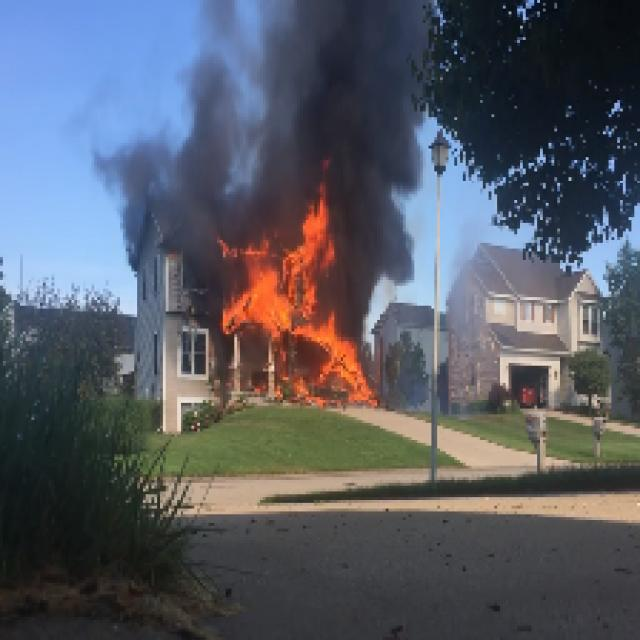Fire: (220, 237, 294, 329), (288, 177, 338, 283), (306, 317, 363, 389)
Smoke: (263, 2, 432, 154), (183, 2, 266, 232), (86, 80, 180, 232), (346, 160, 426, 314), (442, 220, 534, 346)
